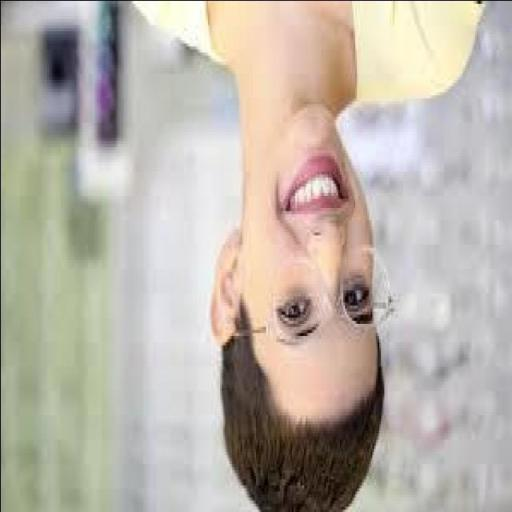glasses: (244, 234, 402, 348)
